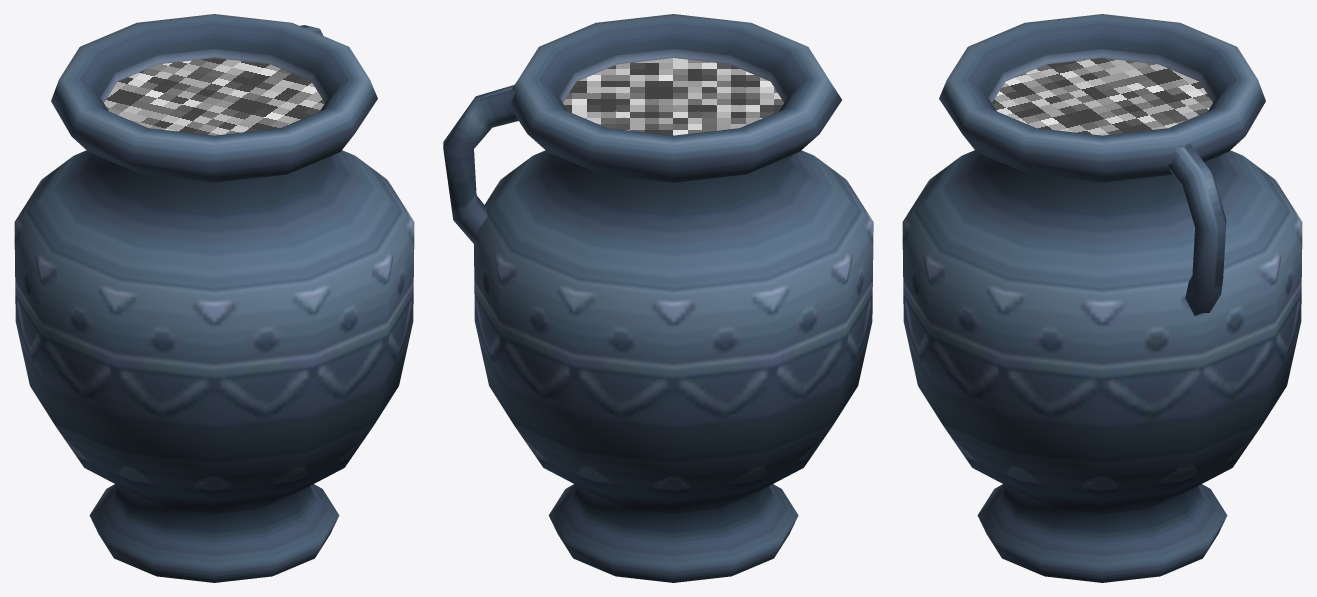
File: int_sgn_Aquarius.dae
3 views of the same model, side by side, from view 1: azimuth 30°, elevation 25°; view 2: azimuth 150°, elevation 25°; view 3: azimuth 270°, elevation 25° (orthographic).
Parts seen in each view (by area): view 1: int_sgn_Aquarius; view 2: int_sgn_Aquarius; view 3: int_sgn_Aquarius.
Boxes of the visible parts, box(x1,y1,x2,y2) form: int_sgn_Aquarius: box(14, 14, 414, 582); int_sgn_Aquarius: box(443, 14, 873, 582); int_sgn_Aquarius: box(902, 14, 1302, 582).
Bounding box in the file's own units: 27.41 × 34.07 × 27.19.
2 materials, 2 textured.
